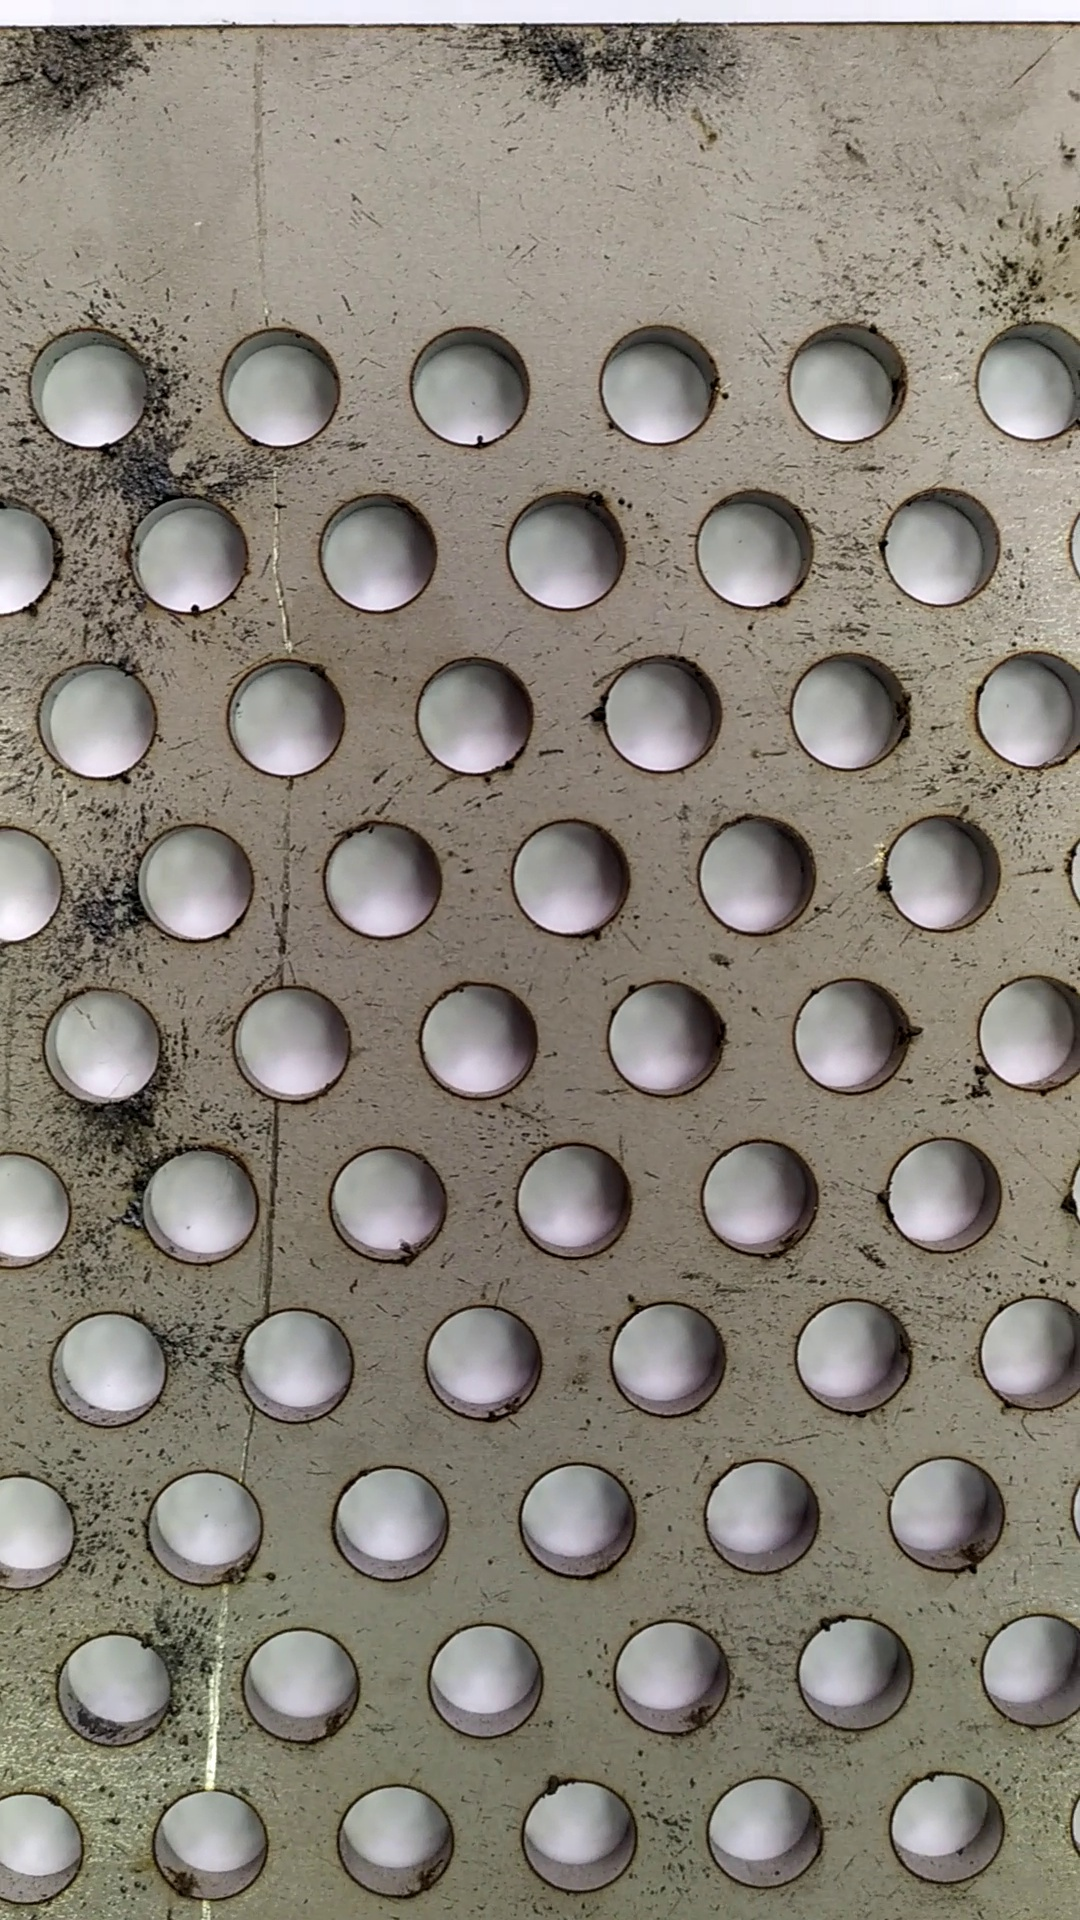Hole: (318, 1456, 475, 1593), (781, 1284, 928, 1429), (596, 1288, 745, 1432), (687, 1130, 841, 1269), (876, 1762, 1033, 1898), (783, 971, 932, 1109), (869, 1448, 1018, 1586), (18, 313, 164, 454), (30, 646, 173, 789), (491, 481, 638, 618), (687, 1448, 832, 1585), (398, 315, 541, 454), (124, 811, 262, 952), (496, 808, 638, 945), (314, 1134, 458, 1270), (225, 977, 365, 1116), (136, 1462, 280, 1597), (696, 1764, 841, 1898), (44, 1626, 194, 1754), (777, 313, 916, 450), (508, 1134, 647, 1271), (128, 1138, 272, 1271), (787, 1604, 926, 1741), (229, 1298, 365, 1437), (116, 491, 262, 620), (404, 642, 541, 779), (873, 1130, 1022, 1255), (687, 483, 825, 617), (407, 973, 547, 1106), (313, 487, 454, 618), (600, 971, 732, 1112), (512, 1455, 651, 1586), (313, 815, 454, 945), (212, 316, 349, 450), (216, 651, 355, 783), (877, 477, 1007, 617), (229, 1619, 371, 1749), (36, 978, 171, 1112), (326, 1778, 465, 1907), (591, 647, 727, 779), (415, 1617, 551, 1749), (691, 811, 822, 948), (783, 646, 920, 775), (603, 1613, 740, 1742), (877, 807, 1007, 942), (414, 1305, 556, 1428), (589, 315, 723, 446), (38, 1307, 177, 1432), (506, 1774, 645, 1898), (145, 1782, 281, 1903)
